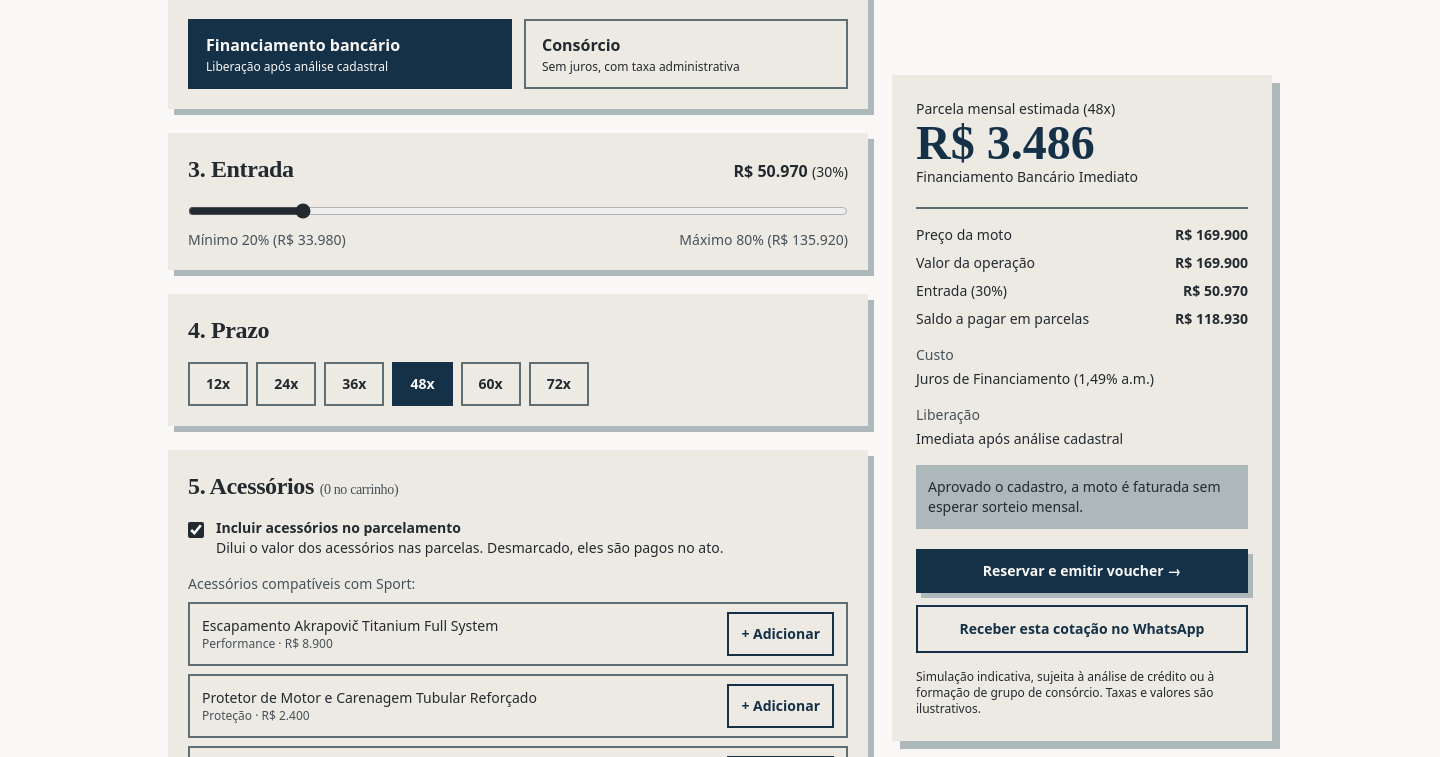
RF-07 · Simulador › mostra a parcela e muda quando o prazo muda (RN-03)
The width and height of the screenshot is (1440, 757).
(page scrolled)
Check: the button "48x" is shown, box [392,362,452,406]
Step 1. Click the button "72x" → (559,384), box [529,362,589,406]
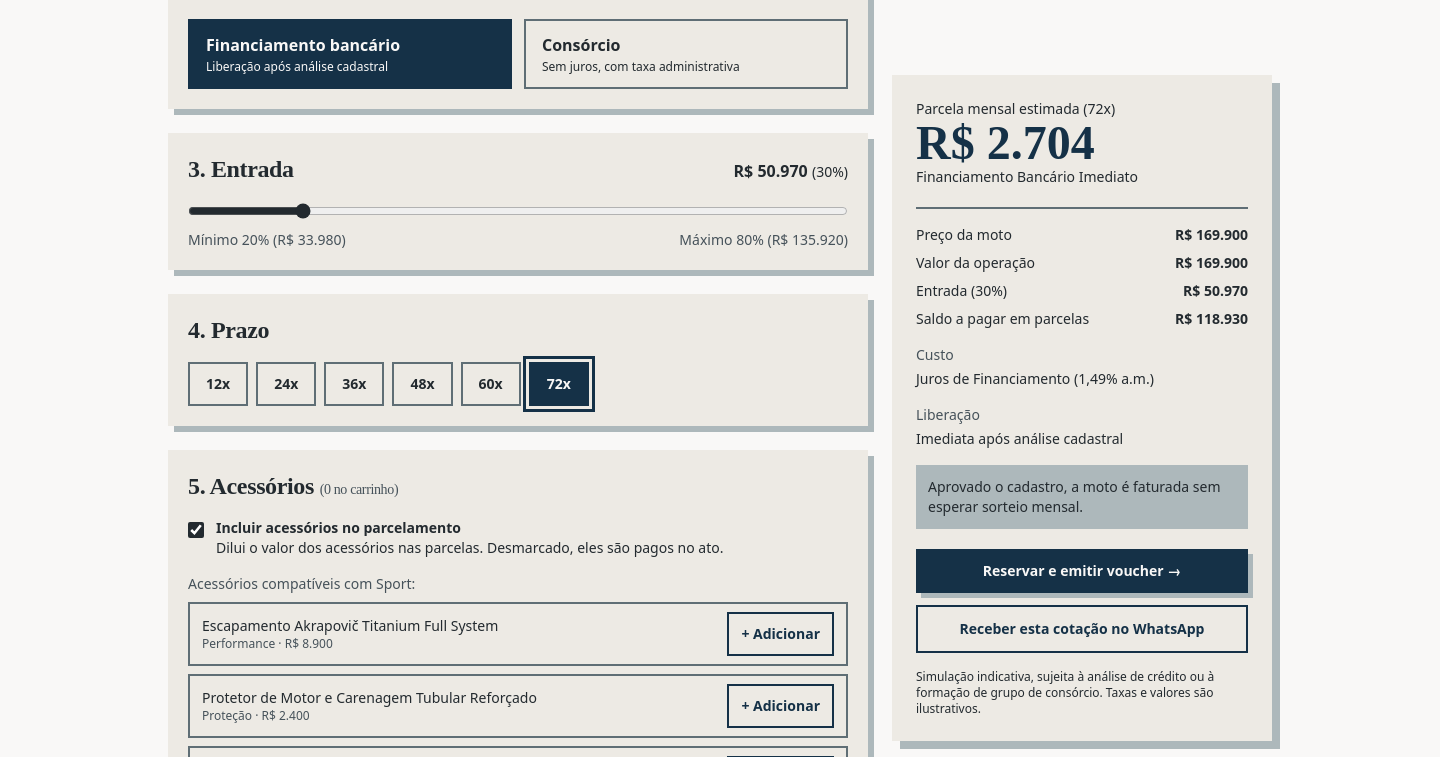
Check: the text "Parcela mensal estimada (72x)" is shown, box [916,99,1115,118]
